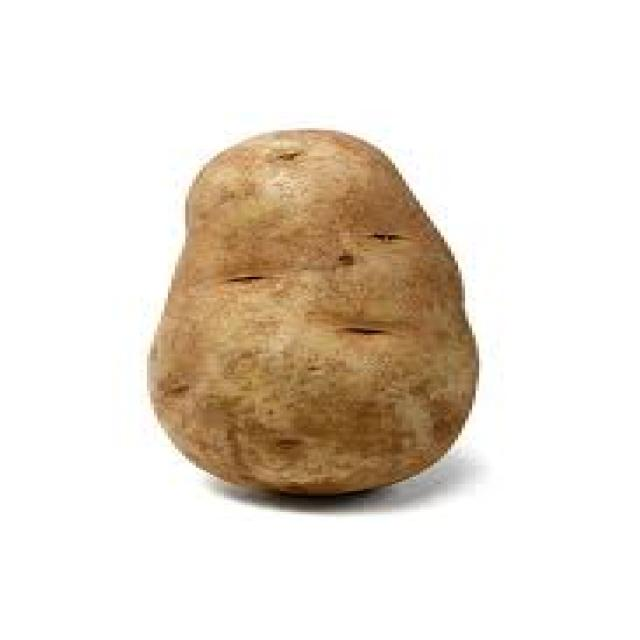Wet Waste: (152, 112, 484, 514)
